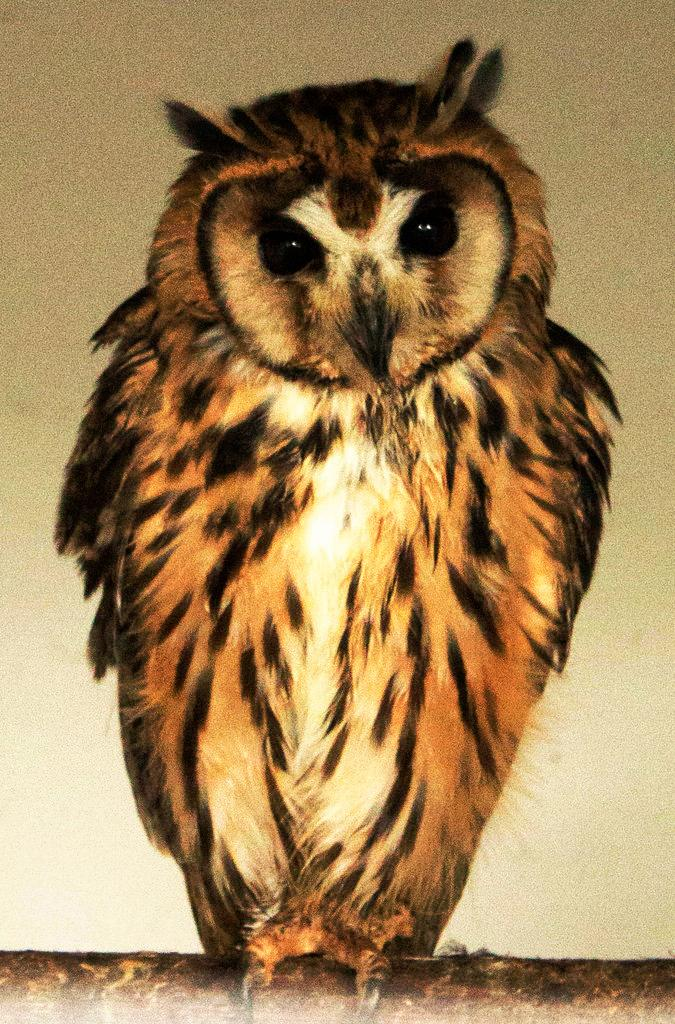Owl: (52, 43, 633, 1023)
